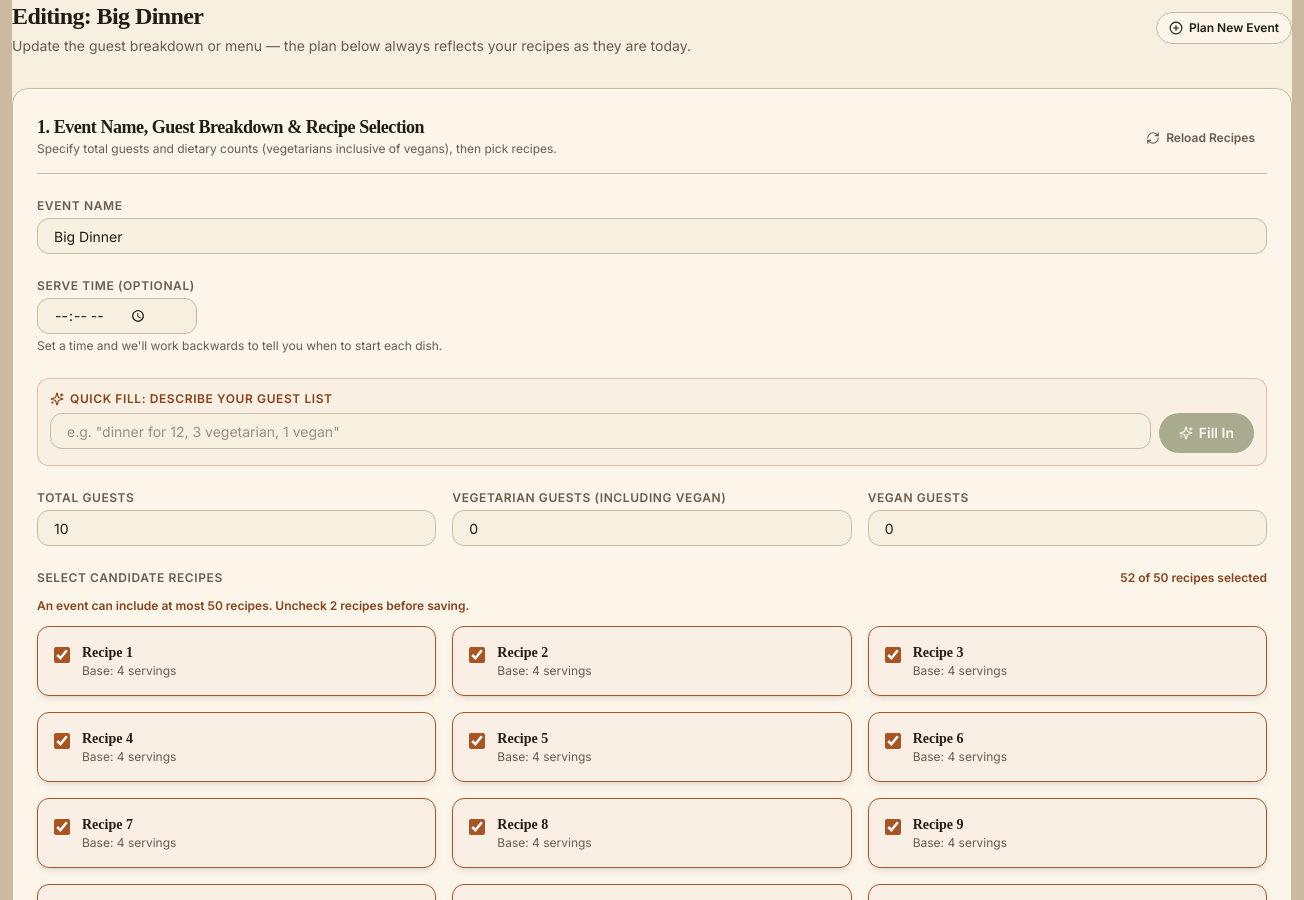
Test case: EventPlanner: 50-recipe limit › still loads an event saved with more than 50 recipes and lets them be unchecked
This screenshot has width=1304, height=900.
expect the text "52 of 50 recipes selected" is shown: met, box top-left (1120, 570), bottom-right (1267, 586)
expect the text "Uncheck 2 recipes before saving" is shown: met, box top-left (37, 598), bottom-right (469, 613)
What coordinates should you click on to do the following:
click the checkbox named "Select recipe Recipe 1"
I would click on:
 (62, 655)
Its box is top-left (54, 647), bottom-right (70, 663).
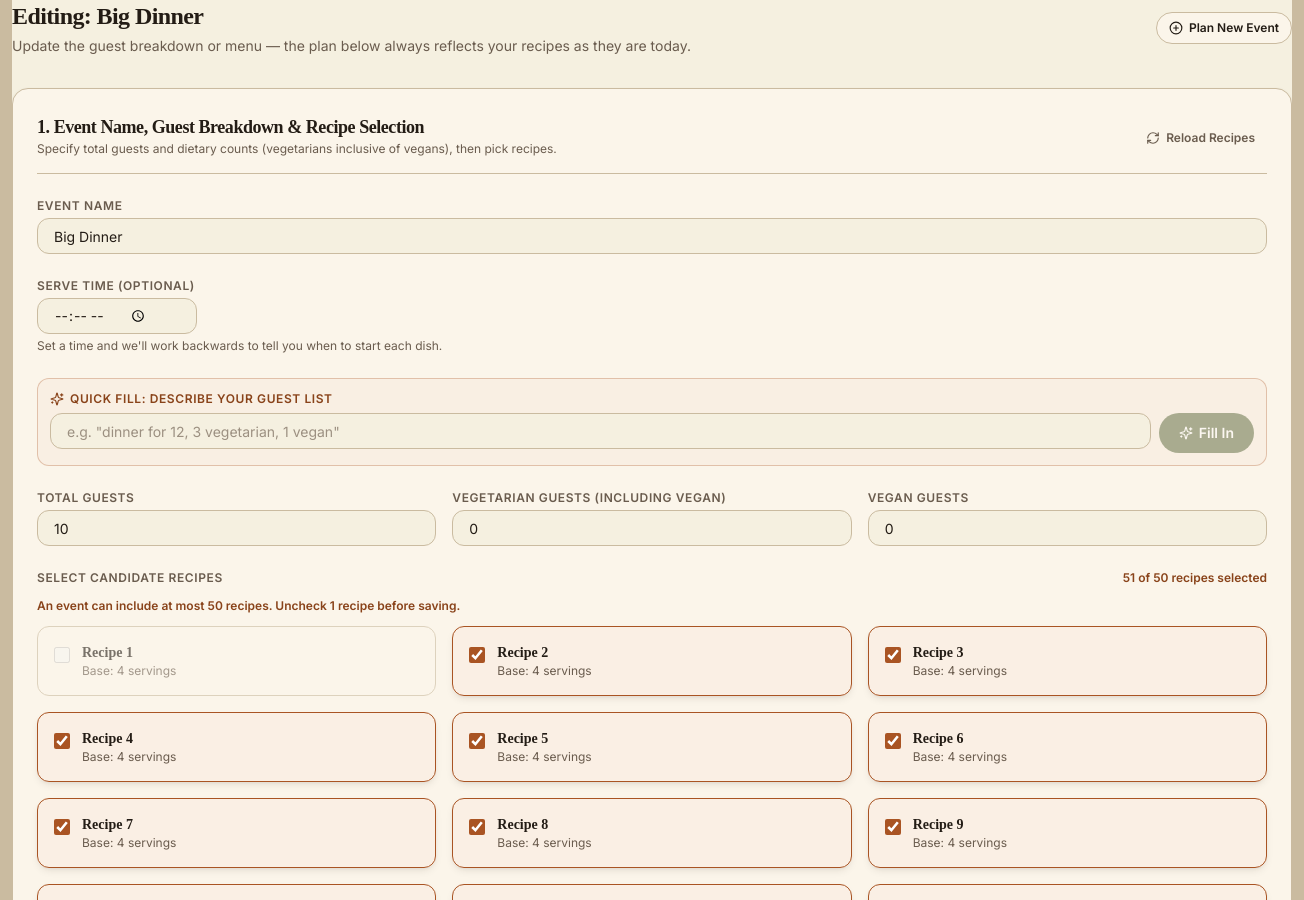
What coordinates should you click on to do the following:
click the checkbox labelled "Recipe 2 Base: 4 servings"
I would click on:
 (477, 655)
Its box is top-left (469, 647), bottom-right (485, 663).
(page scrolled)
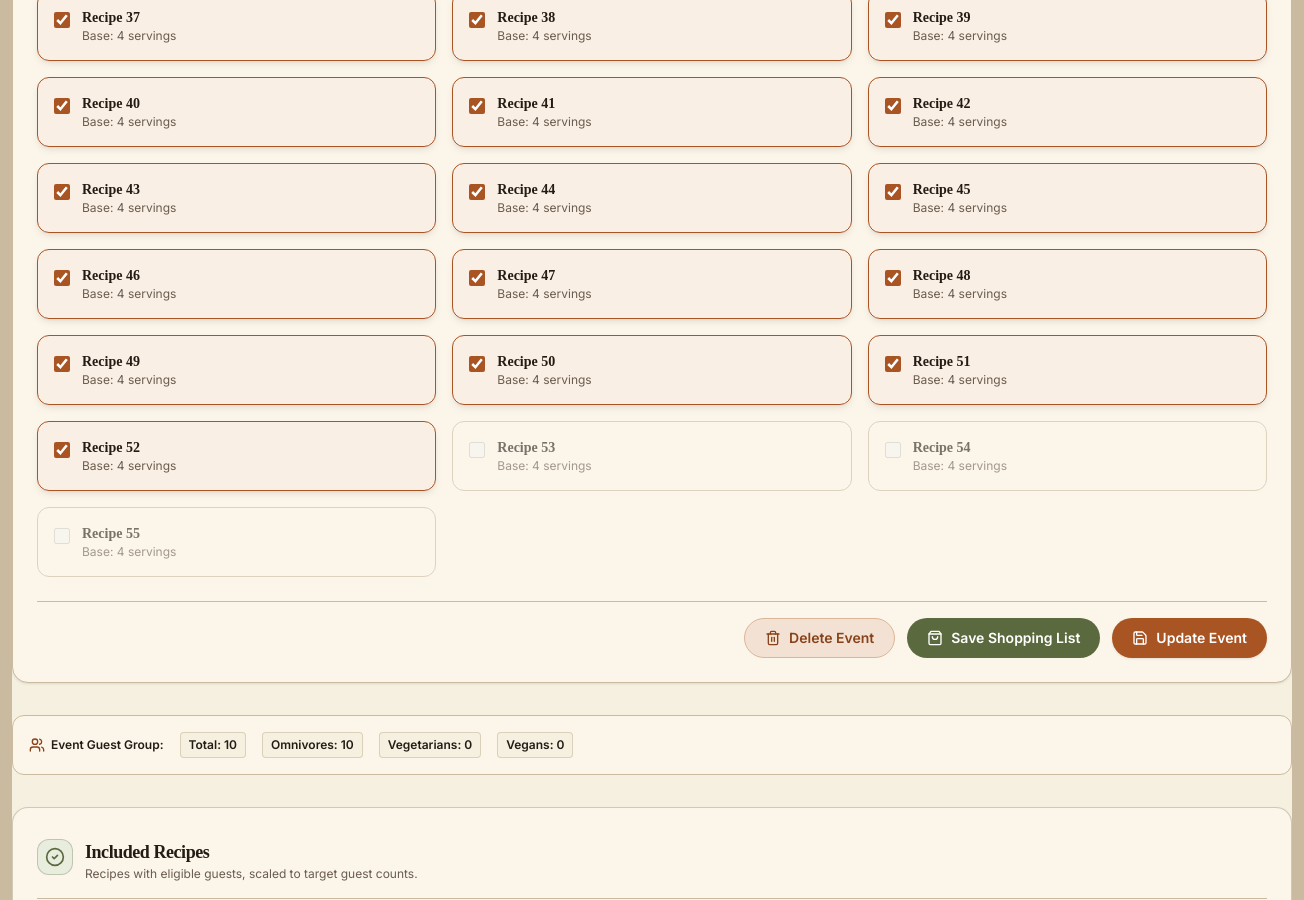
expect the text "before saving" is gone: met
